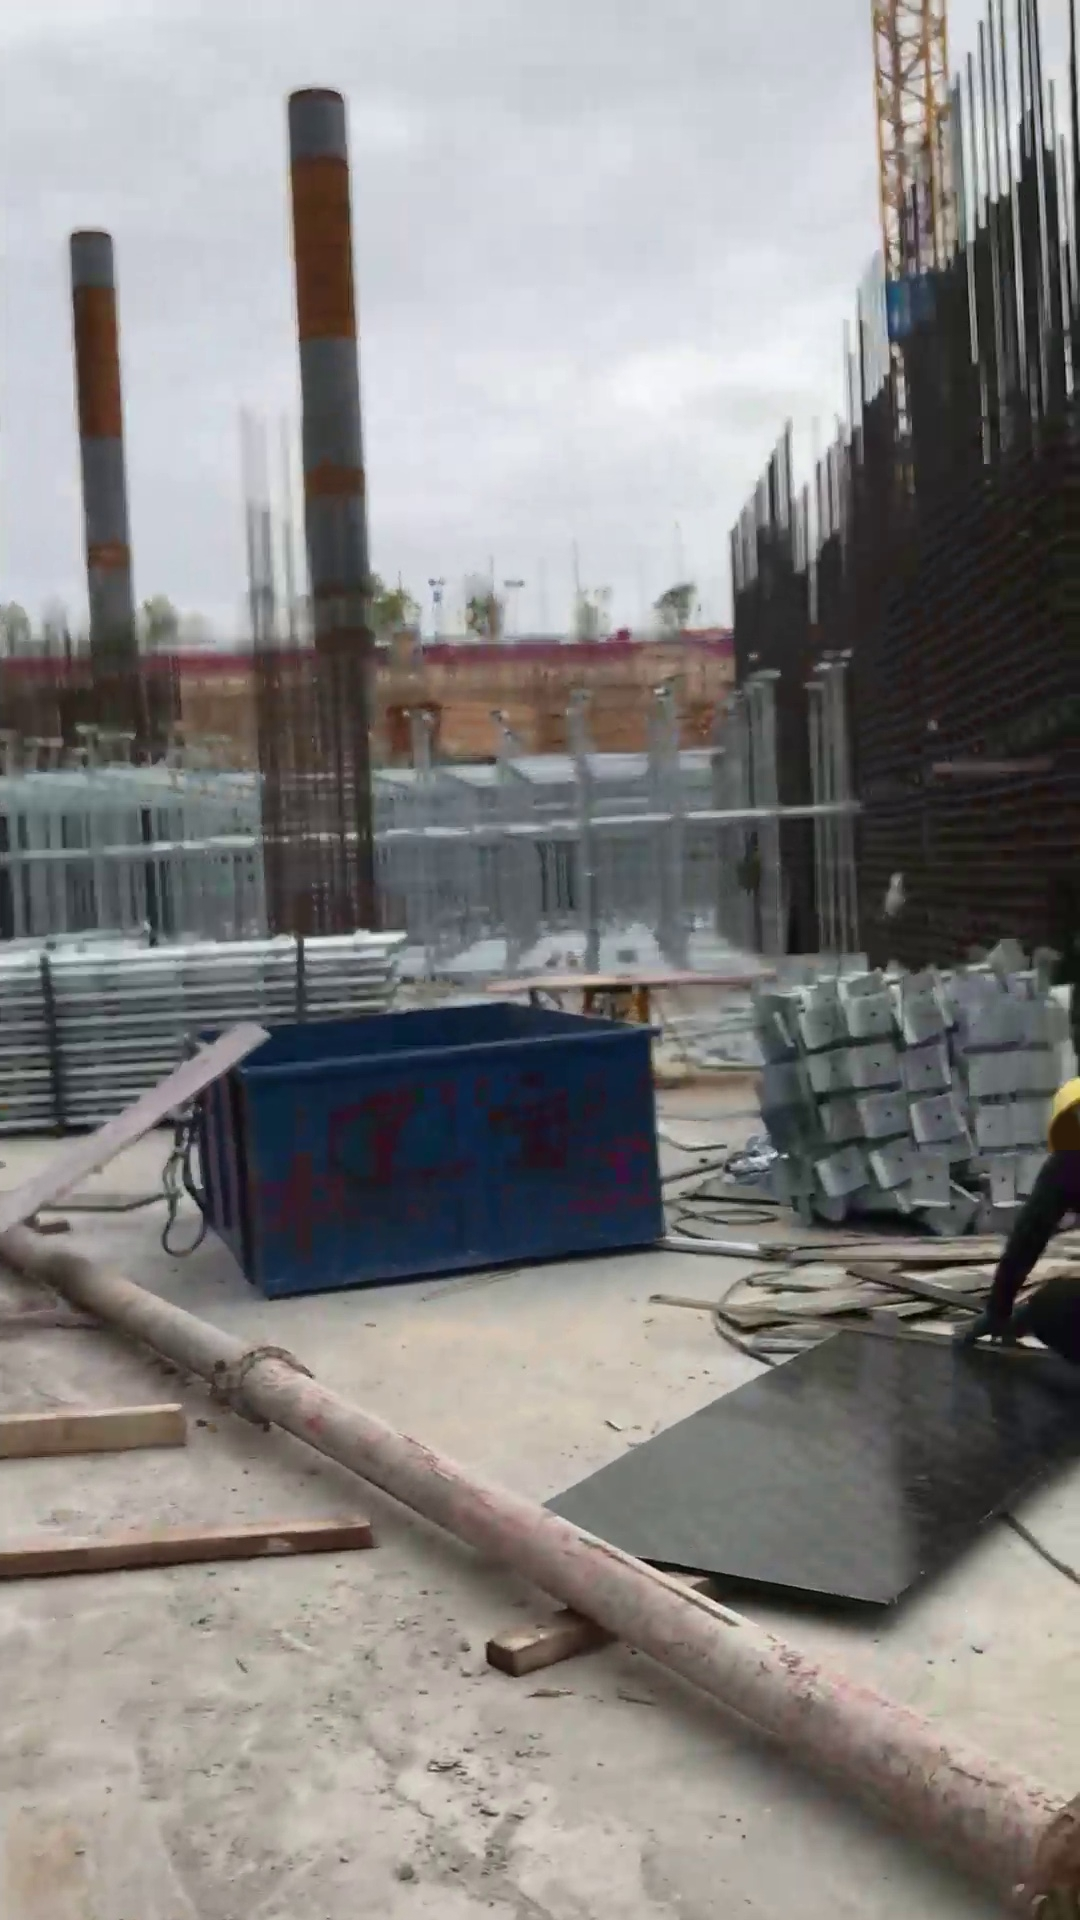cutter: (488, 964, 746, 1027)
helmet: (1040, 1075, 1080, 1145)
hopper: (169, 998, 671, 1303)
scaffold: (1, 922, 426, 1138)
